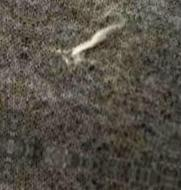snag: (68, 21, 127, 60)
